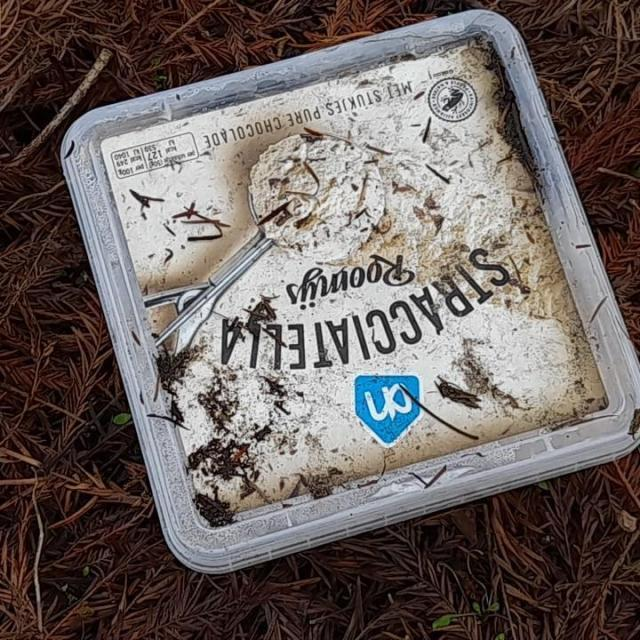Paper: (56, 6, 640, 580)
